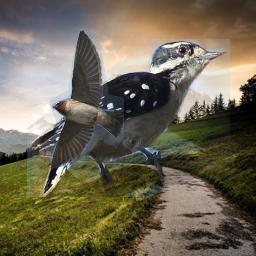Swallow: (50, 29, 124, 169)
Woodpecker: (27, 39, 230, 197)
